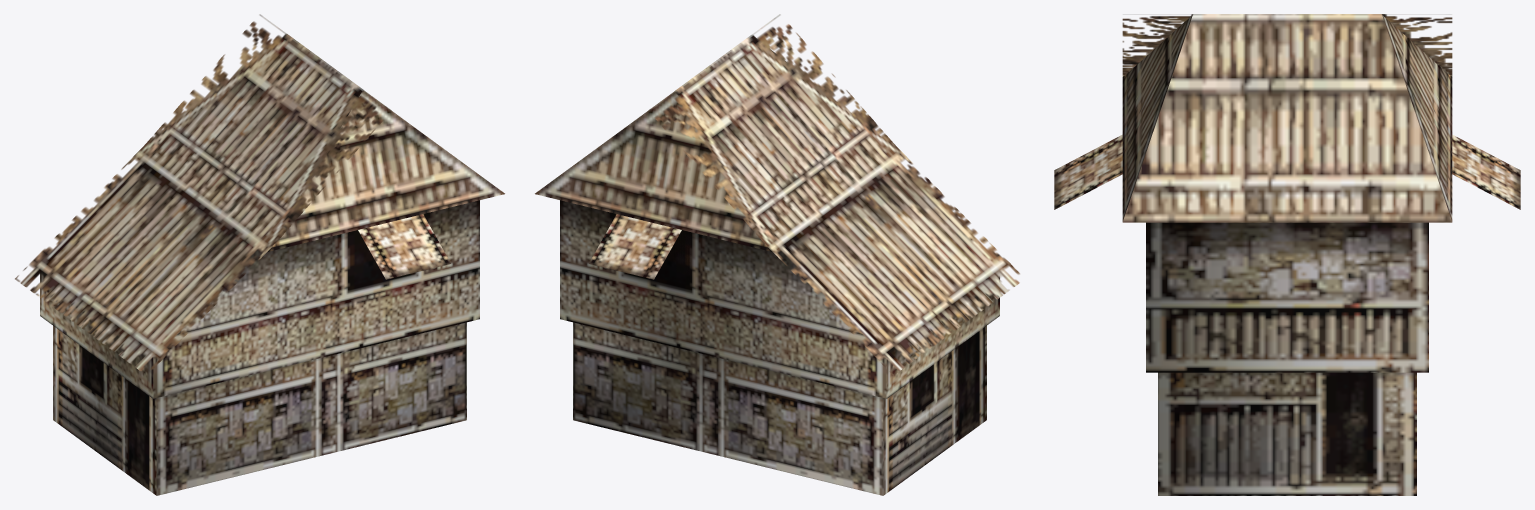
The model's file is China - Base Building - Farm Hse - NBFarmHse.glb.
3 views of the same model, side by side, from view 1: azimuth 30°, elevation 25°; view 2: azimuth 150°, elevation 25°; view 3: azimuth 270°, elevation 25° (orthographic). The views are drawn at different scales.
Visible parts, largest first — view 1: NBFARMHSE; view 2: NBFARMHSE; view 3: NBFARMHSE.
Part boxes in pixels (box(x1,y1,x2,y2)): NBFARMHSE: box(15, 14, 504, 495); NBFARMHSE: box(535, 14, 1019, 495); NBFARMHSE: box(1054, 14, 1520, 495).
Bounding box in the file's own units: 44 × 40 × 39.59.
1 material, 1 textured.
